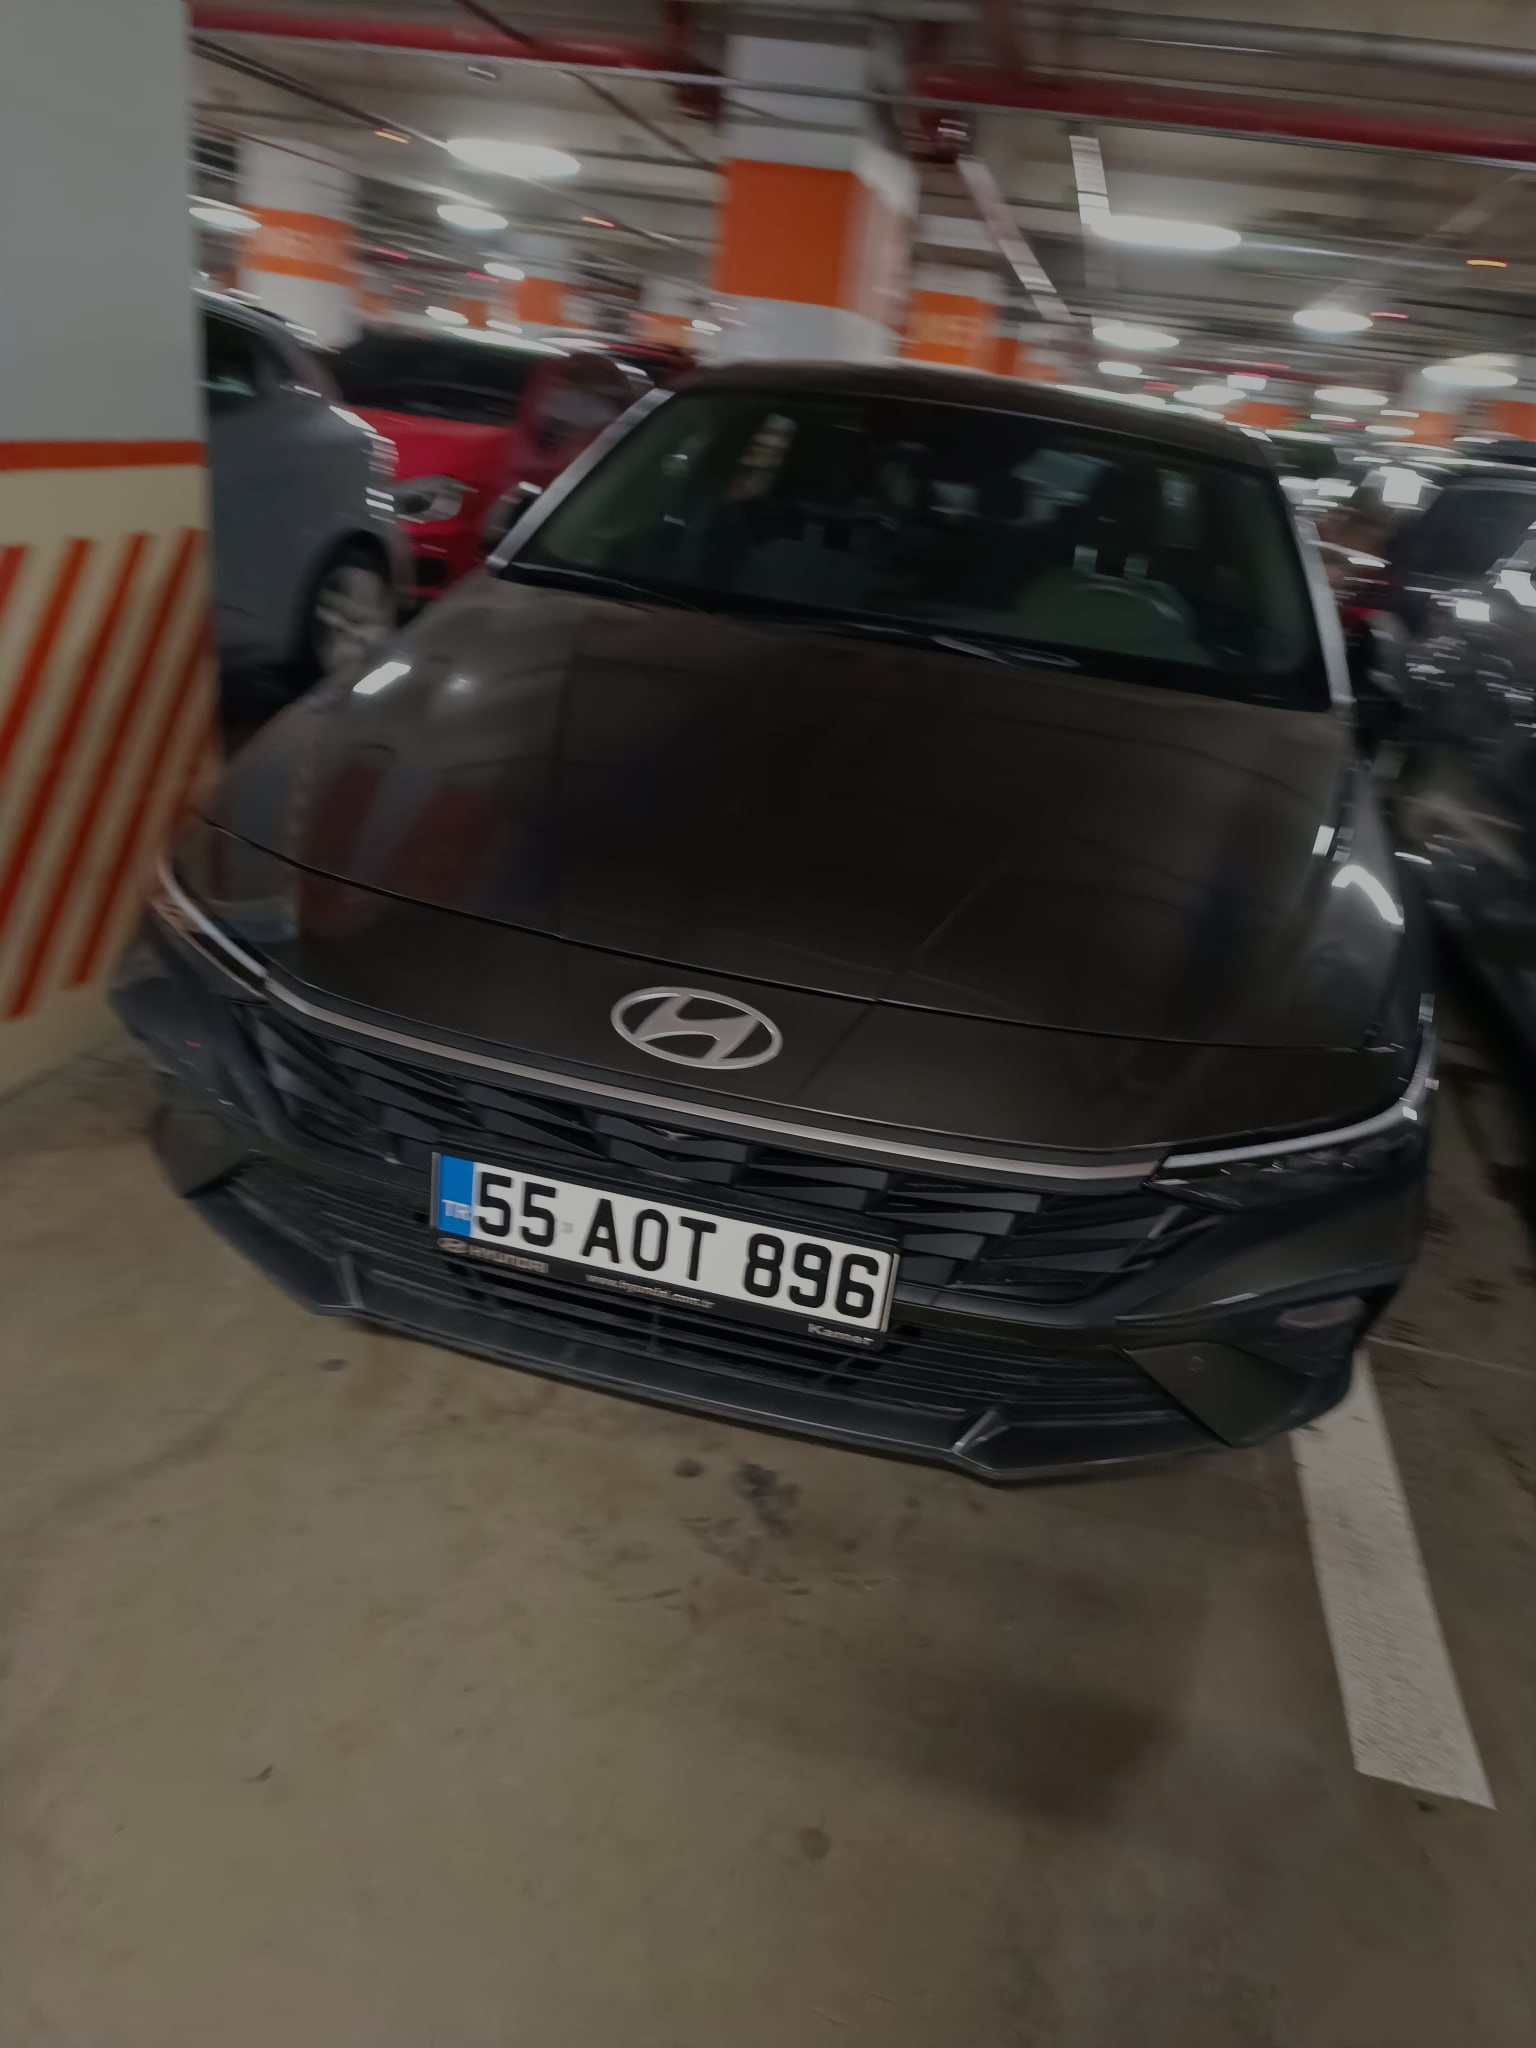plaka: (471, 1159, 882, 1348)
